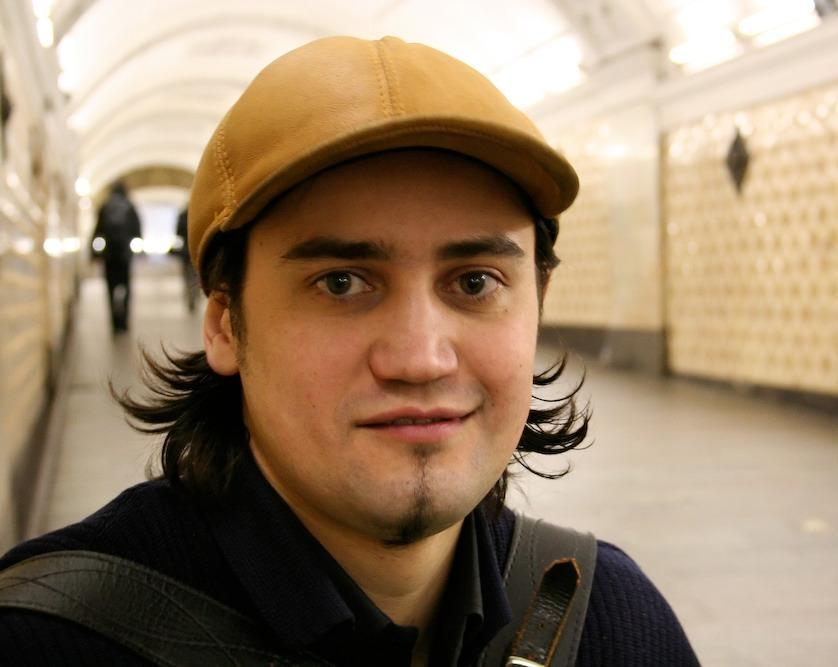Eyebags: (305, 289, 386, 320), (438, 288, 508, 318)
